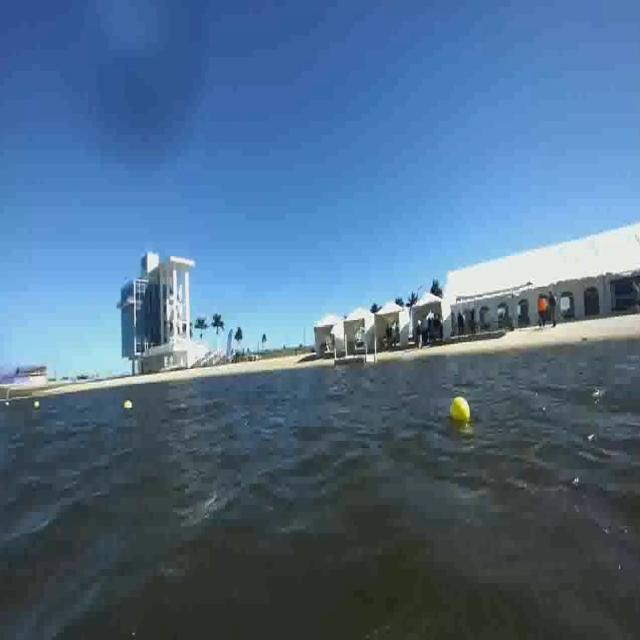yellow-buoy: (450, 395, 471, 423), (124, 395, 132, 412), (34, 398, 42, 410)
